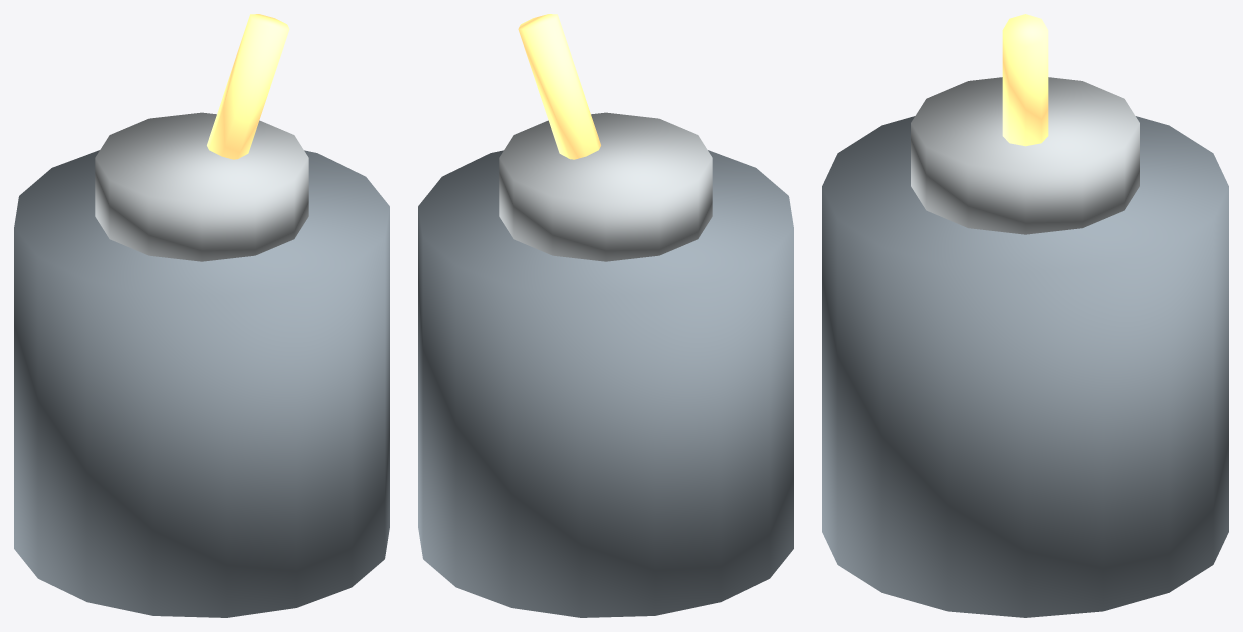
File: item-smoke.glb
The picture shows the model from 3 angles, left to right: view 1: azimuth 30°, elevation 25°; view 2: azimuth 150°, elevation 25°; view 3: azimuth 270°, elevation 25°; orthographic projection. The views are drawn at different scales.
Visible parts, largest first — view 1: mesh_item_smoke_body, mesh_item_smoke_metal, mesh_item_smoke_fuse; view 2: mesh_item_smoke_body, mesh_item_smoke_metal, mesh_item_smoke_fuse; view 3: mesh_item_smoke_body, mesh_item_smoke_metal, mesh_item_smoke_fuse.
Part boxes in pixels (<box>): mesh_item_smoke_body: <box>14,150,389,617</box>; mesh_item_smoke_metal: <box>95,112,308,261</box>; mesh_item_smoke_fuse: <box>207,14,289,159</box>; mesh_item_smoke_body: <box>418,150,793,617</box>; mesh_item_smoke_metal: <box>499,112,712,261</box>; mesh_item_smoke_fuse: <box>518,14,600,159</box>; mesh_item_smoke_body: <box>822,116,1228,617</box>; mesh_item_smoke_metal: <box>911,77,1139,234</box>; mesh_item_smoke_fuse: <box>1002,14,1048,146</box>.
Size of the model in its own units: 0.32 by 0.4725 by 0.32.
